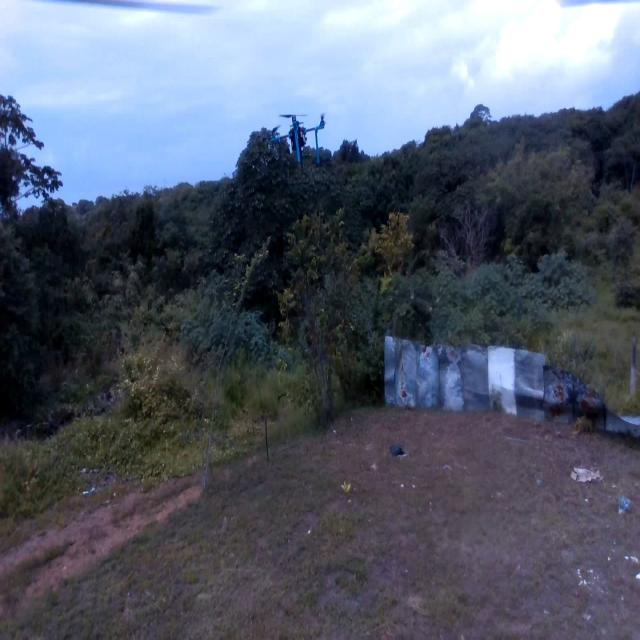-uav-: (260, 110, 333, 176)
